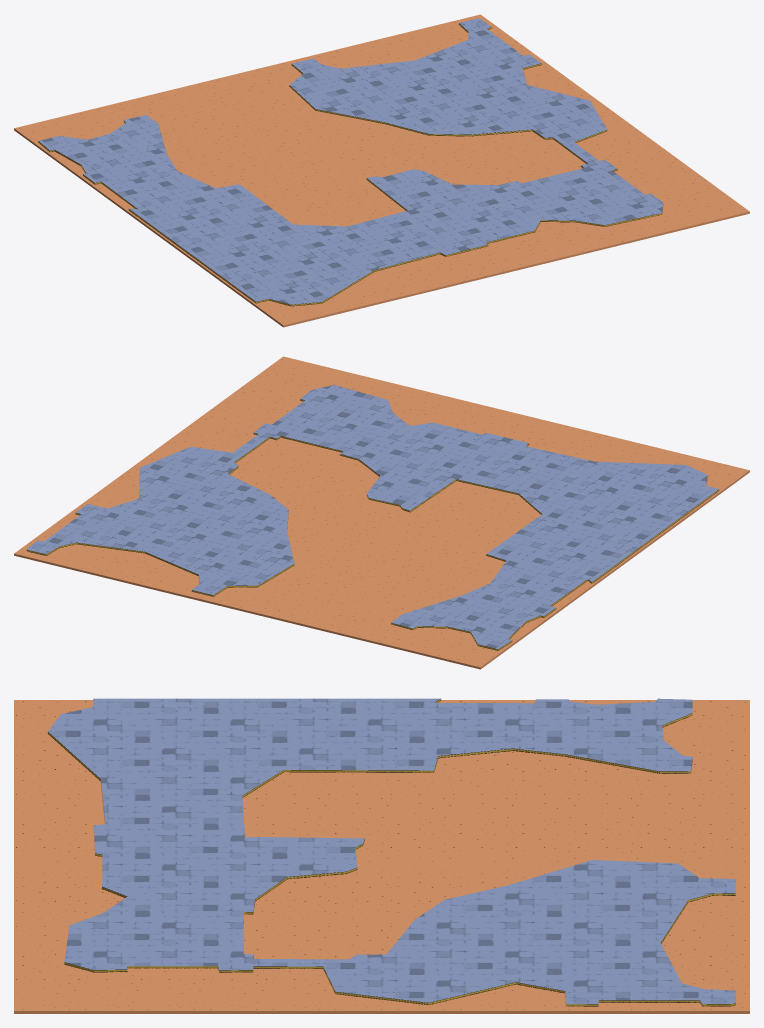
Rendered from Floor_Sand_Medium.glb.
The picture shows the model from 3 angles, top to bottom: view 1: azimuth 30°, elevation 25°; view 2: azimuth 150°, elevation 25°; view 3: azimuth 270°, elevation 25°; orthographic projection. The views are drawn at different scales.
Visible parts, largest first — view 1: Floor_Sand_Medium; view 2: Floor_Sand_Medium; view 3: Floor_Sand_Medium.
Boxes of the visible parts, box(x1,y1,x2,y2) form: Floor_Sand_Medium: box(14, 14, 749, 327); Floor_Sand_Medium: box(14, 356, 749, 669); Floor_Sand_Medium: box(14, 698, 749, 1013).
Size of the model in its own units: 23.94 by 0.1954 by 23.94.
4 materials, 4 textured.
